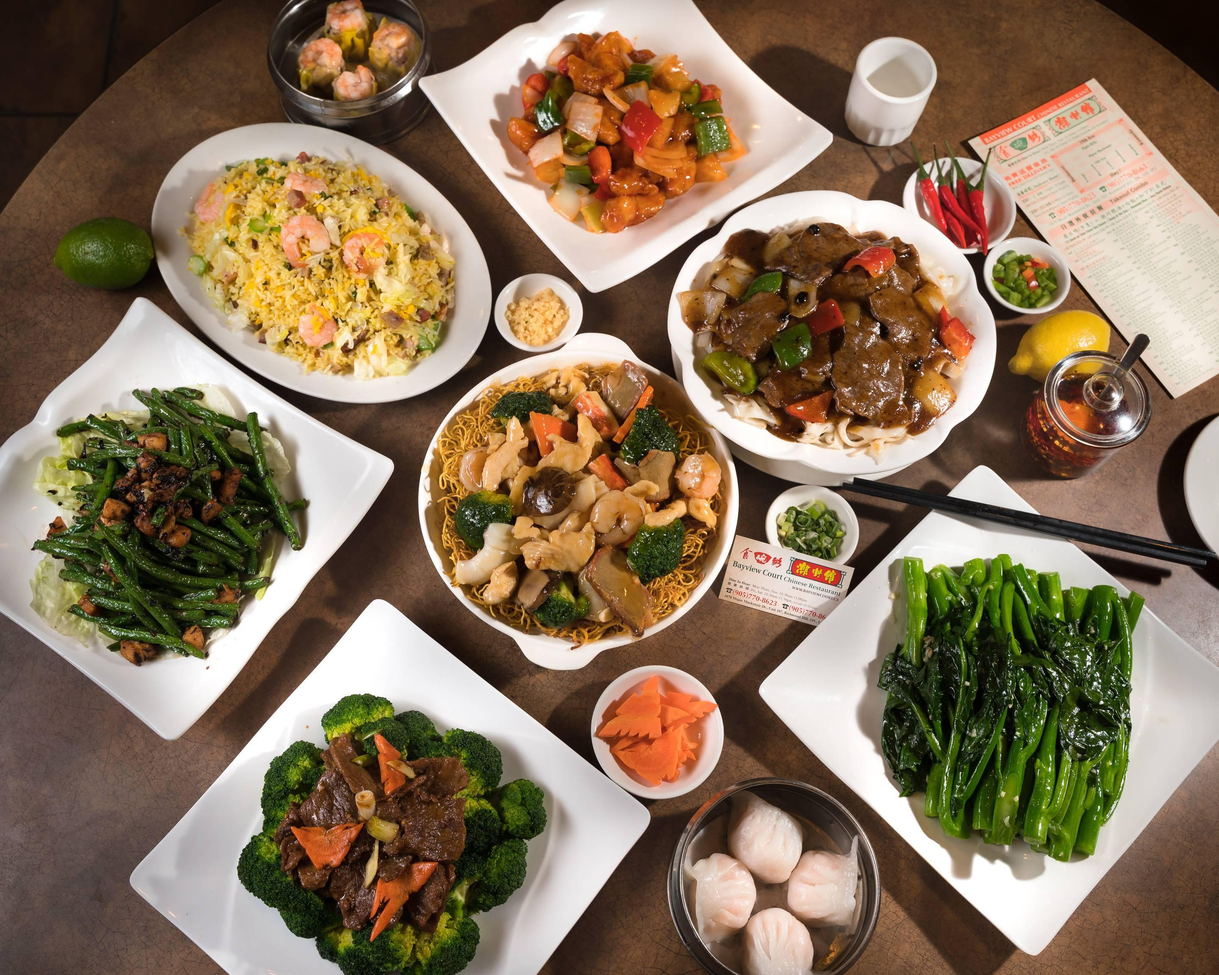Braised Crucian Carp: (767, 497, 1179, 941), (168, 650, 585, 975), (0, 377, 398, 702), (445, 0, 768, 292), (677, 186, 991, 460), (149, 120, 463, 393), (434, 356, 731, 643)
